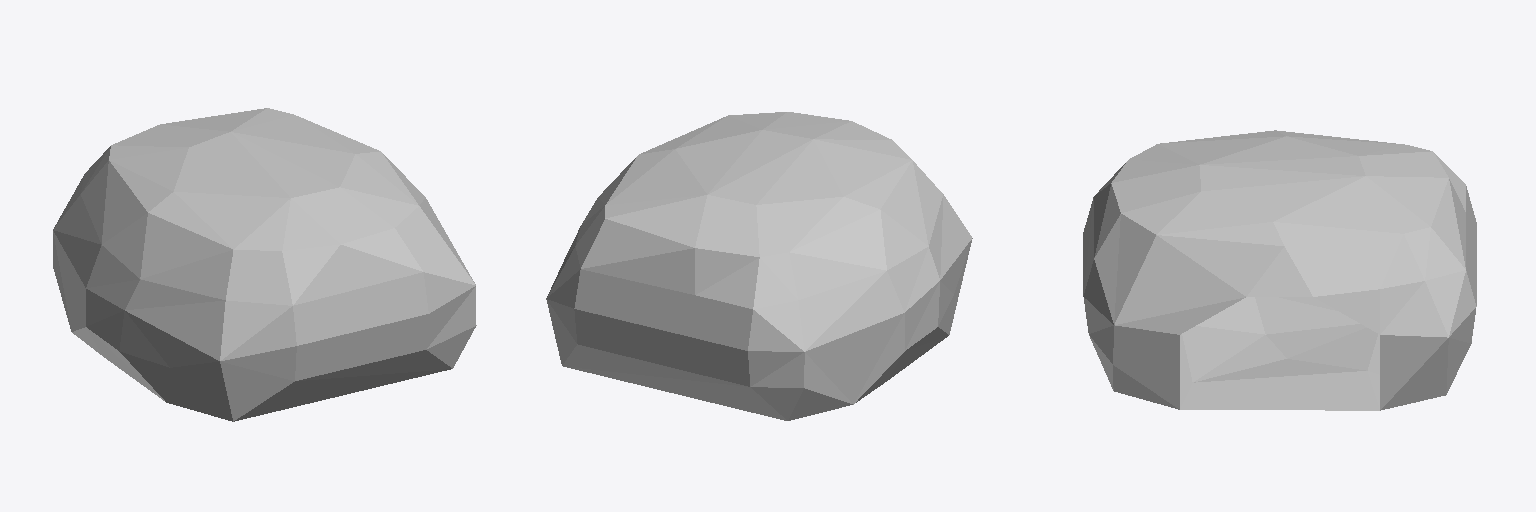
File: Mesh_CavePack_Room_Square_End_Small_lod1.obj
3 views of the same model, side by side, from view 1: azimuth 30°, elevation 25°; view 2: azimuth 150°, elevation 25°; view 3: azimuth 270°, elevation 25° (orthographic).
Parts seen in each view (by area): view 1: Plane.017; view 2: Plane.017; view 3: Plane.017.
Boxes of the visible parts, <box> form: Plane.017: <box>53,108,476,421</box>; Plane.017: <box>546,112,972,420</box>; Plane.017: <box>1083,130,1476,410</box>.
Bounding box in the file's own units: 16.97 × 9.37 × 18.84.